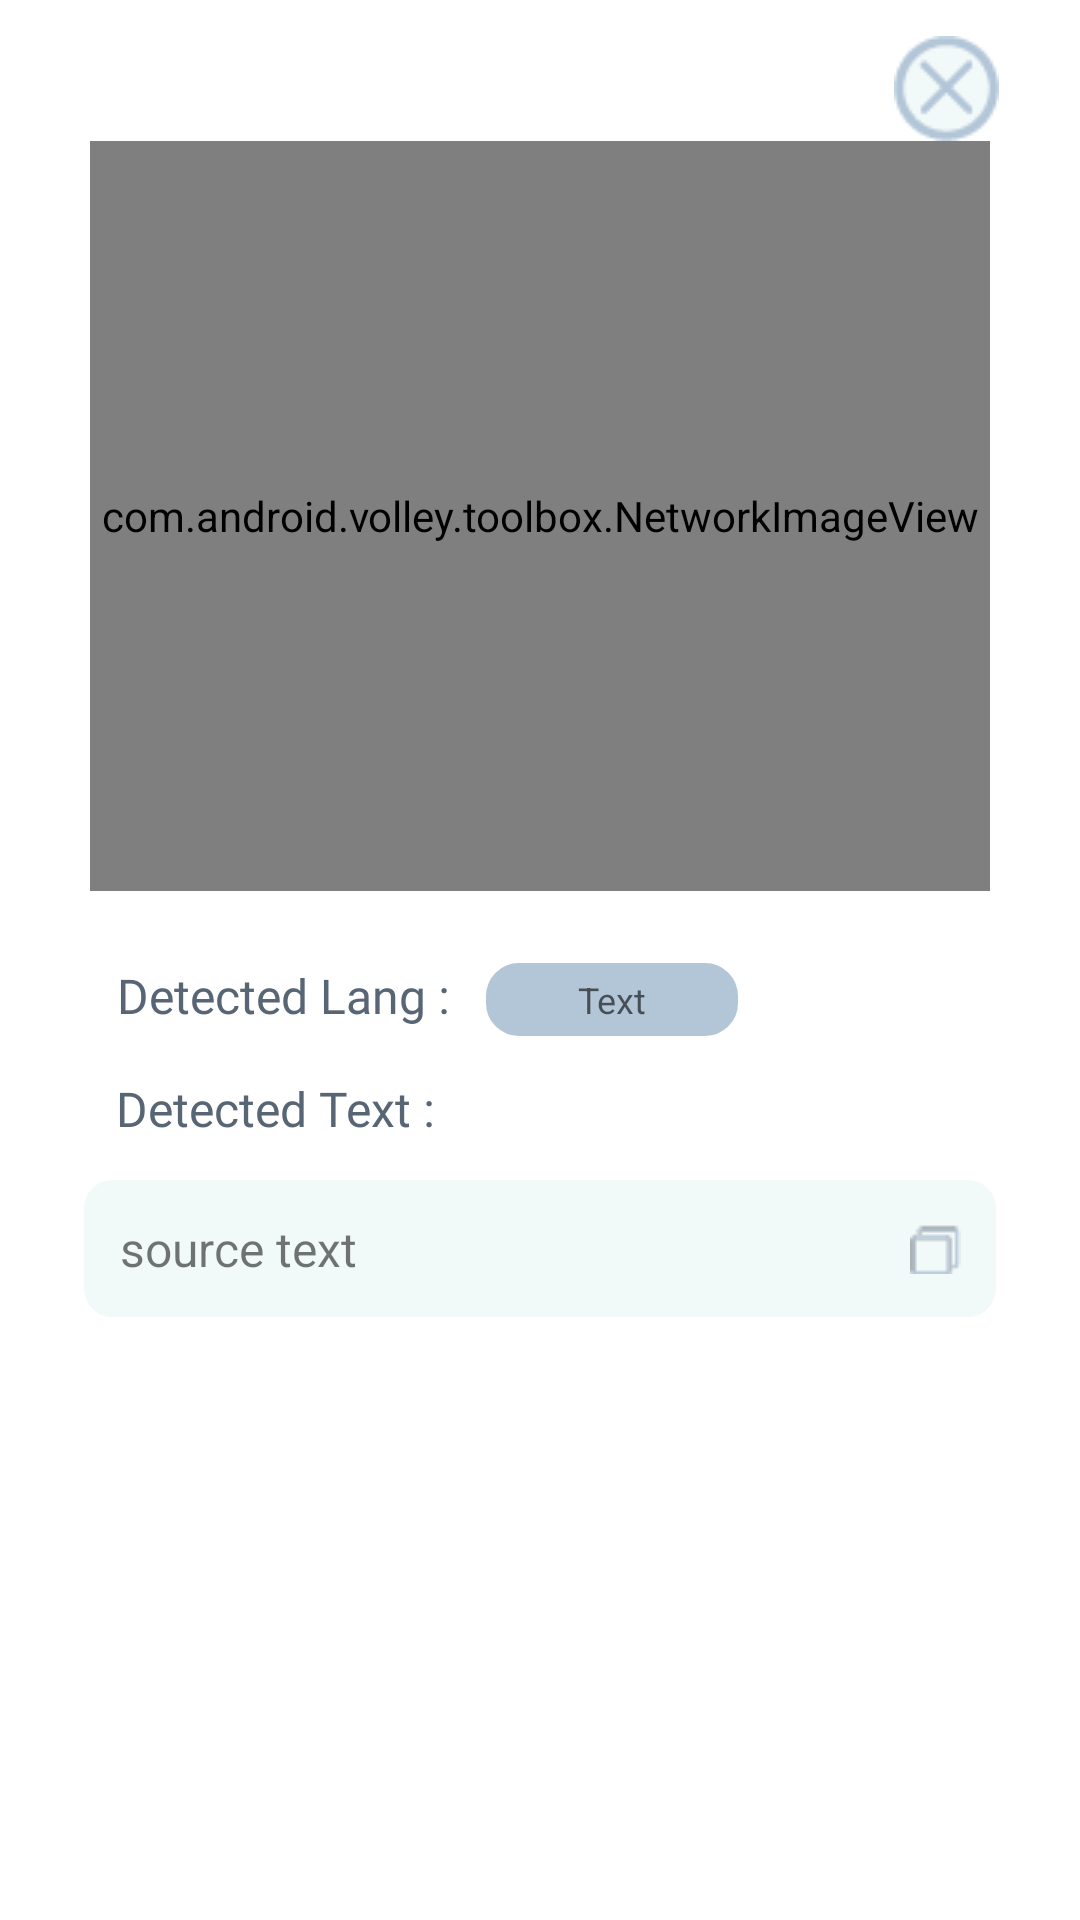

Where icons sit on this 1080*1920 app screen, as (x1, y1, x2, y2):
close: (894, 36, 999, 141)
salin: (910, 1226, 959, 1274)
